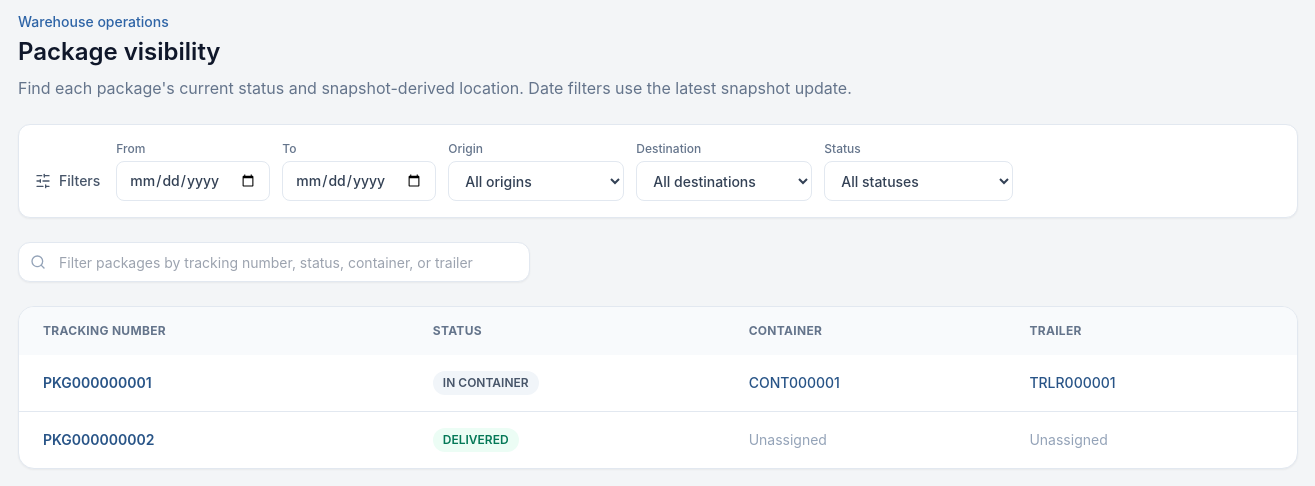
Test: operational asset list pages › loads package snapshots and filters the visible rows
The width and height of the screenshot is (1315, 486).
Type "delivered" into the field labelled "Filter packages" at (274, 262), box [18, 242, 530, 282]
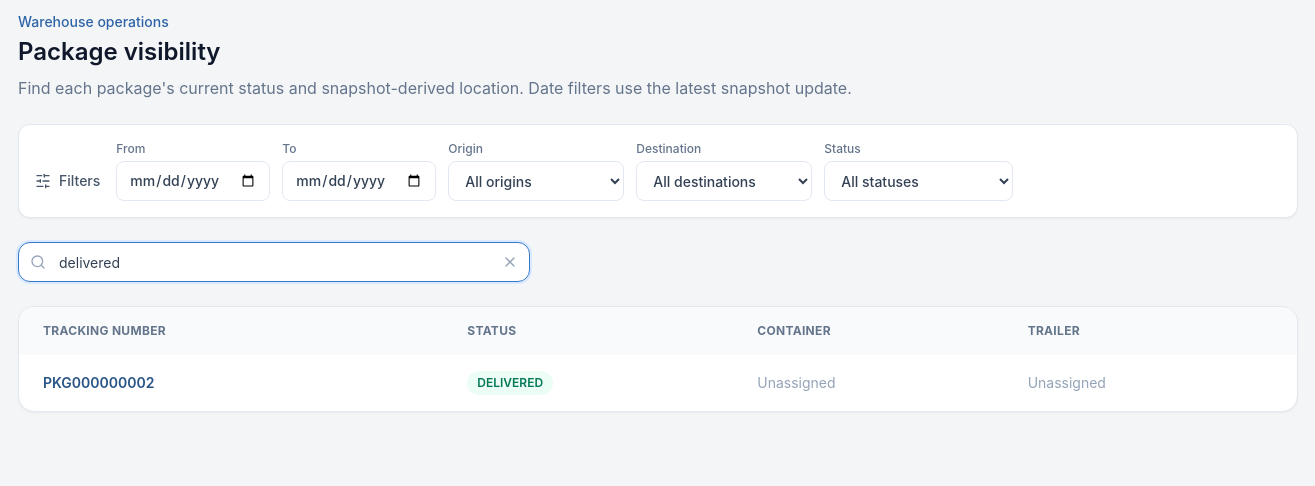
Expected: the link "PKG000000002" is shown, [43, 374, 154, 391]
Now the link "PKG000000001" is gone
